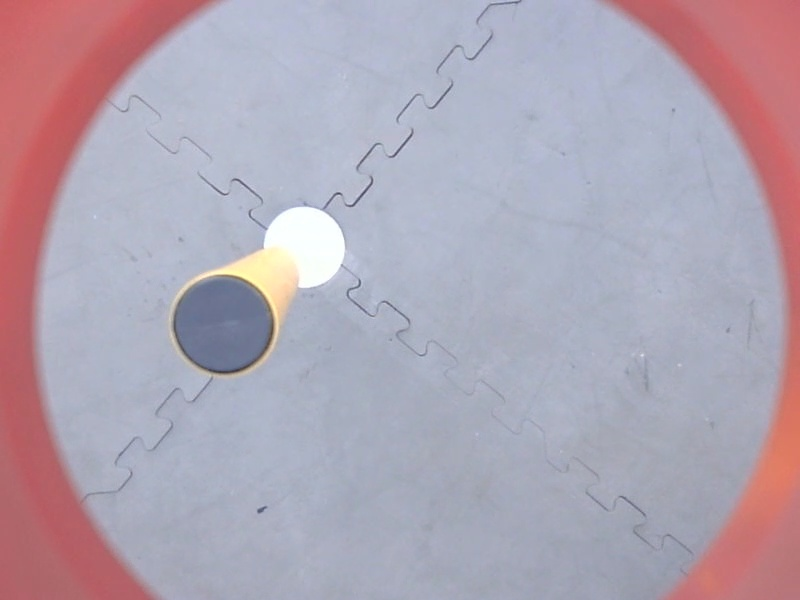tip: (161, 266, 286, 386)
